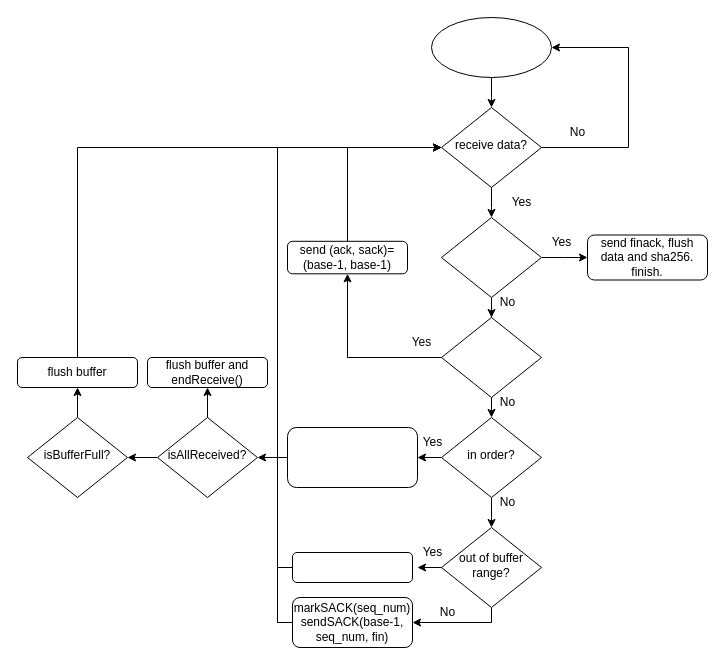
Image size: 725x665. Some labels were removed from this diagram. Here are the shapes that lost their labels. From the top down, the centre of each, then its label:
At [491,47]: "start receiving data".
At [491,257]: "receive fin?".
At [491,357]: "corrupt?".
At [352,457]: "updateBase() markSACK(seq_num) sendSACK(base-1, seq_num, fin)".
At [352,567]: "sendSACK(base-1, base-1, false)".
